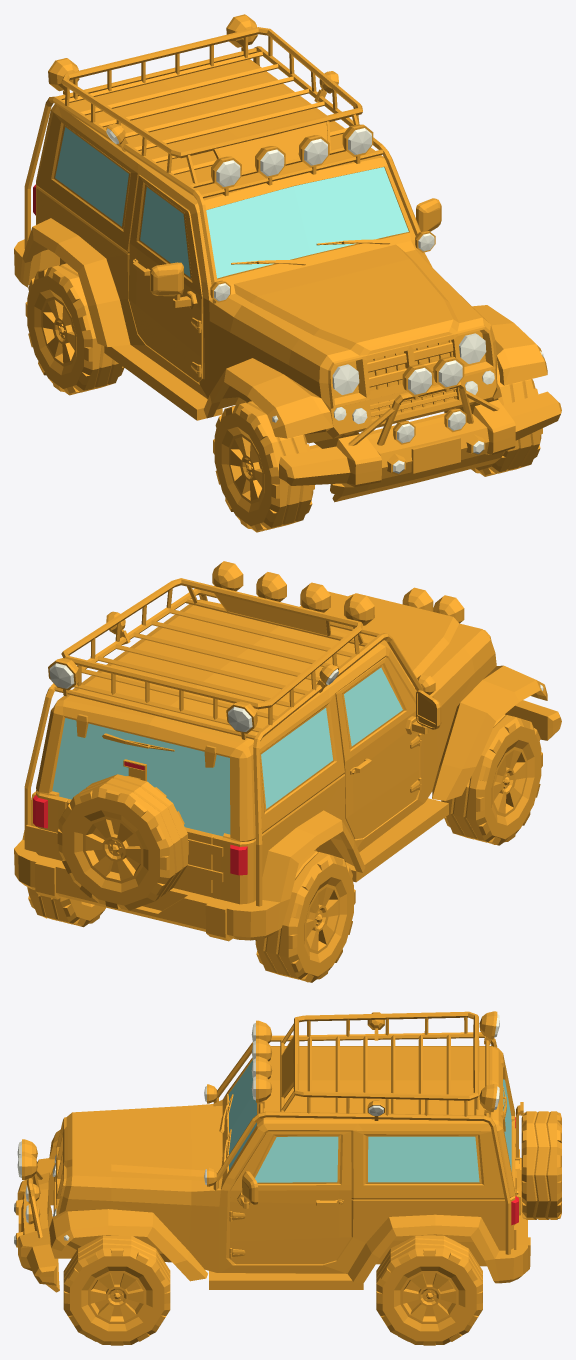
The model's file is SM_Car_Offroad_Modern.fbx.
3 renders of one model, top to bottom at view 1: azimuth 30°, elevation 25°; view 2: azimuth 150°, elevation 25°; view 3: azimuth 270°, elevation 25°, orthographic. The views are drawn at different scales.
Parts seen in each view (by area): view 1: SM_Car_Offroad_Modern_Base, SM_Car_Offroad_Modern_Door_R, SM_Car_Offroad_Modern_Wheel_RF, SM_Car_Offroad_Modern_Wheel_RB, SM_Car_Offroad_Modern_Wheel_LF, SM_Car_Offroad_Modern_Door_L; view 2: SM_Car_Offroad_Modern_Base, SM_Car_Offroad_Modern_Trunk, SM_Car_Offroad_Modern_Door_R, SM_Car_Offroad_Modern_Wheel_RB, SM_Car_Offroad_Modern_Wheel_RF, SM_Car_Offroad_Modern_Wheel_LB; view 3: SM_Car_Offroad_Modern_Base, SM_Car_Offroad_Modern_Door_L, SM_Car_Offroad_Modern_Wheel_LF, SM_Car_Offroad_Modern_Wheel_LB, SM_Car_Offroad_Modern_Trunk.
Boxes of the visible parts, x1,y1,x2,y2 form: SM_Car_Offroad_Modern_Base: (14,14,561,502); SM_Car_Offroad_Modern_Door_R: (128,175,202,382); SM_Car_Offroad_Modern_Wheel_RF: (213,401,314,532); SM_Car_Offroad_Modern_Wheel_RB: (25,263,124,395); SM_Car_Offroad_Modern_Wheel_LF: (444,361,542,476); SM_Car_Offroad_Modern_Door_L: (416,198,441,231); SM_Car_Offroad_Modern_Base: (14,561,561,941); SM_Car_Offroad_Modern_Trunk: (57,759,223,910); SM_Car_Offroad_Modern_Door_R: (335,657,441,838); SM_Car_Offroad_Modern_Wheel_RB: (255,851,355,982); SM_Car_Offroad_Modern_Wheel_RF: (441,714,542,845); SM_Car_Offroad_Modern_Wheel_LB: (27,887,105,927); SM_Car_Offroad_Modern_Base: (14,1011,530,1292); SM_Car_Offroad_Modern_Door_L: (229,1131,351,1264); SM_Car_Offroad_Modern_Wheel_LF: (63,1235,170,1345); SM_Car_Offroad_Modern_Wheel_LB: (376,1235,482,1345); SM_Car_Offroad_Modern_Trunk: (511,1102,561,1219).
Size of the model in its own units: 2.43 by 2.34 by 4.79.
